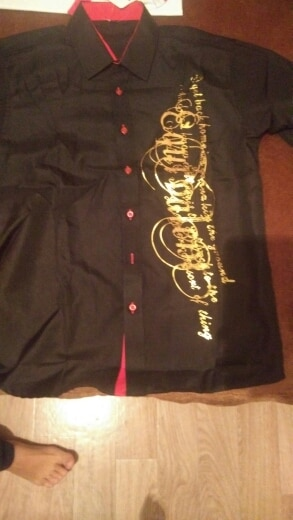shirts: (18, 6, 285, 405)
